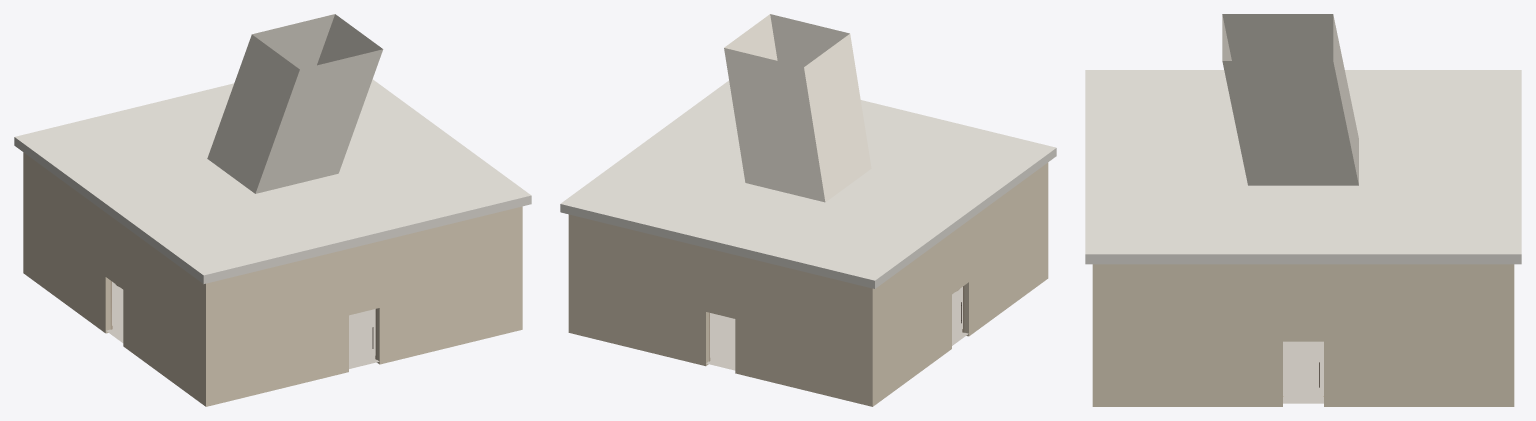
Rendered from T_root_warm_B.glb.
3 views of the same model, side by side, from view 1: azimuth 30°, elevation 25°; view 2: azimuth 150°, elevation 25°; view 3: azimuth 270°, elevation 25° (orthographic). The views are drawn at different scales.
Visible parts, largest first — view 1: Hall, Ceiling, skylight_OVG_glow, Floor; view 2: Hall, Ceiling, skylight_OVG_glow, Floor; view 3: Ceiling, Hall, skylight_OVG_glow, Floor.
Part boxes in pixels (<box>): Hall: <box>23,152,522,406</box>; Ceiling: <box>14,79,531,283</box>; skylight_OVG_glow: <box>207,14,383,193</box>; Floor: <box>106,281,379,368</box>; Hall: <box>568,162,1048,406</box>; Ceiling: <box>560,80,1056,288</box>; skylight_OVG_glow: <box>724,14,871,202</box>; Floor: <box>706,287,968,370</box>; Ceiling: <box>1085,70,1521,264</box>; Hall: <box>1092,264,1514,406</box>; skylight_OVG_glow: <box>1222,14,1358,185</box>; Floor: <box>1283,341,1323,403</box>.
Bounding box in the file's own units: 23.6 × 17.86 × 23.6.
11 materials, 1 textured.
